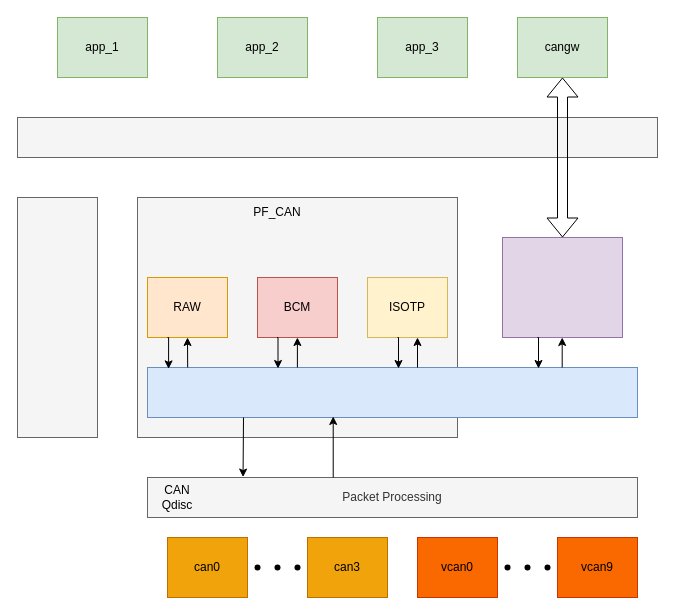
Some shapes in this 675 by 615 pixel diagram are drawn without their labels. Each missing label, with the centre of its shape:
"CAN GW" belongs at pixel 562 287.
"CAN receive filters" belongs at pixel 392 392.
"Linux Socket Layer" belongs at pixel 337 137.
"PF_INET" belongs at pixel 57 317.
